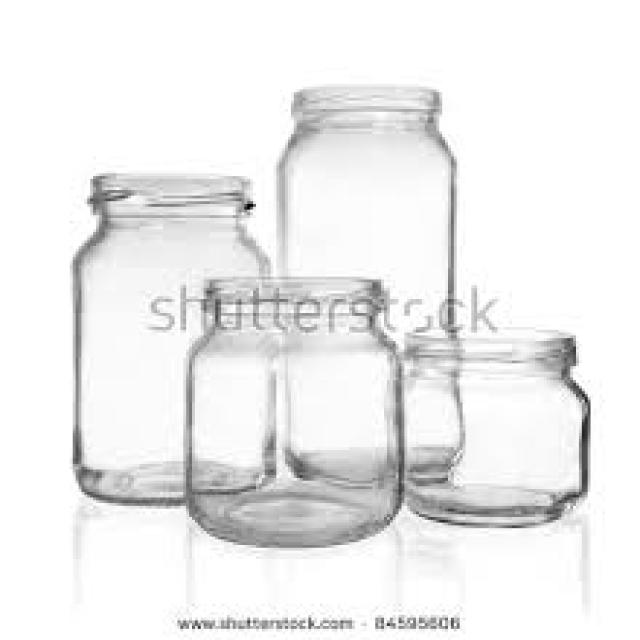glass: (277, 87, 463, 484), (73, 171, 271, 503), (183, 274, 399, 542), (396, 327, 585, 523)
